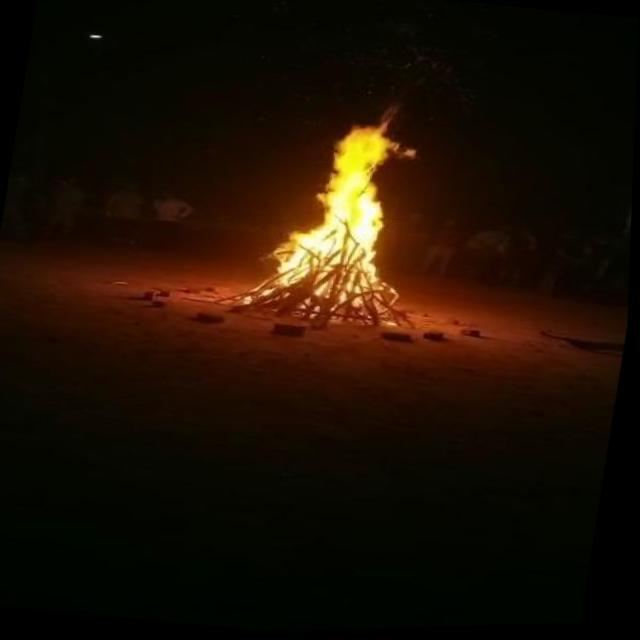fire: (248, 88, 457, 337)
